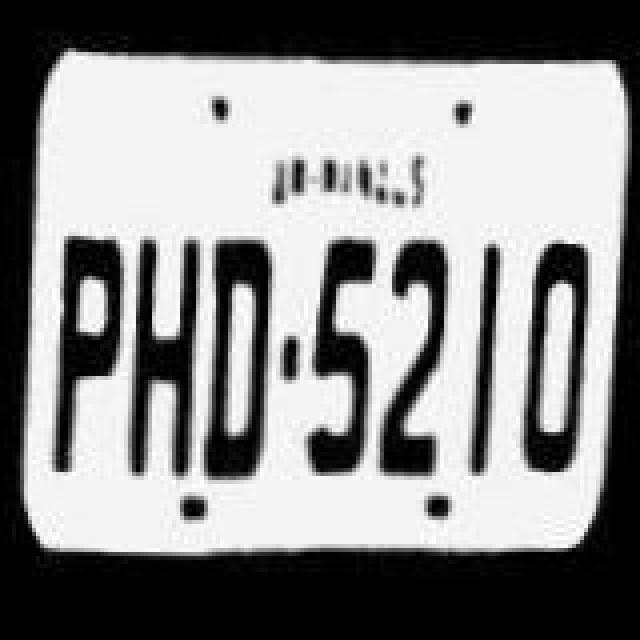1: (458, 222, 518, 474)
2: (366, 230, 458, 482)
5: (300, 230, 388, 486)
D: (198, 214, 282, 490)
H: (122, 220, 206, 496)
O: (514, 224, 606, 480)
P: (40, 212, 128, 484)
